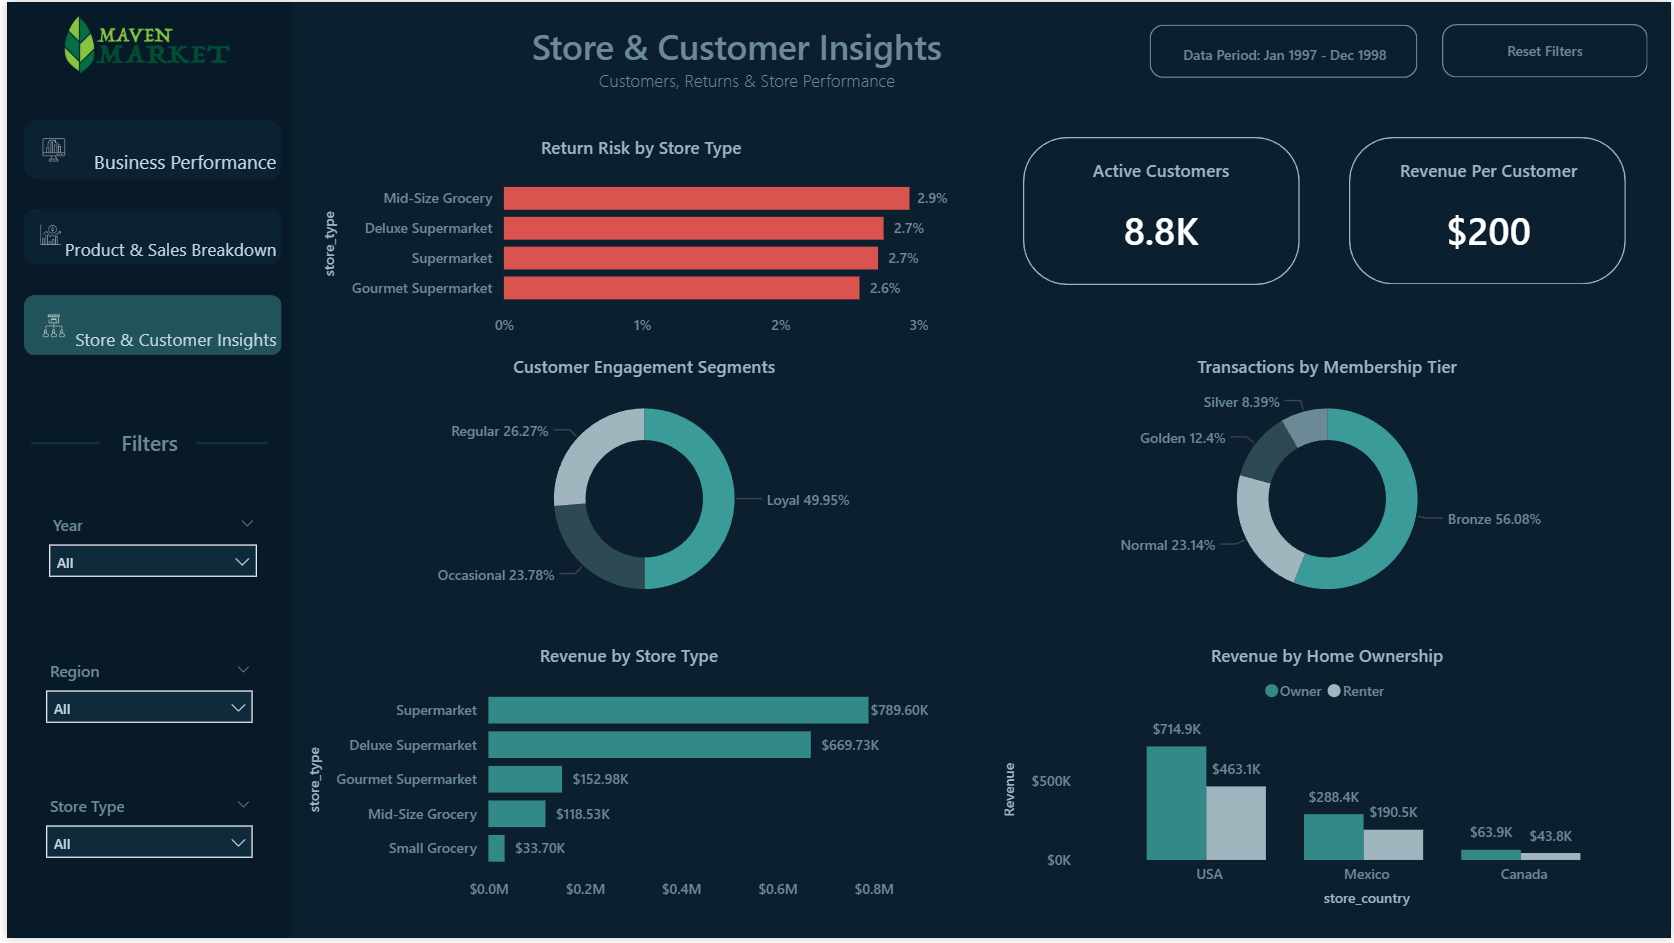

The dashboard page shown, as its layout file describes it:
{"tool":"powerbi","page":{"name":"Store & Customer Insights","canvas":[1280,720],"ordinal":2},"visuals":[{"type":"shape","box":[0,0,219.9,719.8],"z":0},{"type":"group","id":"g1","title":"Group 6","box":[1031.7,104,212.9,113.4],"z":0,"group":"g3"},{"type":"textbox","box":[46.2,322.9,127,39.9],"z":0,"group":"g4"},{"type":"textbox","box":[350.1,15.7,422.7,68.1],"z":1000},{"type":"shape","box":[137.5,326.8,71.3,24.9],"z":1000,"group":"g4"},{"type":"image","box":[17.7,7.9,179.3,50.4],"z":2000},{"type":"shape","box":[10.5,326.8,68.7,24.9],"z":2000,"group":"g4"},{"type":"clusteredBarChart","title":"Return Risk by Store Type","fields":{"Category":["Stores.store_type"],"Y":["Measures Table.Return Rate %"]},"box":[238.9,103.4,497.3,163.6],"z":3000},{"type":"shape","box":[781.3,104,212.9,113.9],"z":3000,"group":"g2"},{"type":"shape","box":[1031.7,104,212.9,113.4],"z":3000,"group":"g1"},{"type":"actionButton","title":"Performance Pulse","box":[13.1,159,198.3,42.5],"z":3000,"group":"g6"},{"type":"group","id":"g2","title":"Group 9","box":[781.3,104,212.9,113.9],"z":4000,"group":"g3"},{"type":"actionButton","title":"Performance Pulse","box":[13.1,225.1,198.3,46.5],"z":4000,"group":"g5"},{"type":"donutChart","title":"Transactions by Membership Tier","fields":{"Category":["Customers.member_card"],"Y":["Measures Table.Total Transactions"]},"box":[762.4,271.6,506.5,204.2],"z":4000},{"type":"group","id":"g3","title":"Group 10","box":[781.3,104,463.3,113.9],"z":5000},{"type":"image","box":[24.5,170.1,18.3,18.3],"z":5000,"group":"g6"},{"type":"image","box":[27.1,239.5,18.3,18.3],"z":5000,"group":"g5"},{"type":"clusteredBarChart","title":"Revenue by Store Type","fields":{"Category":["Stores.store_type"],"Y":["Measures Table.Total Revenue"]},"box":[232.3,494.1,497.3,206.8],"z":6000},{"type":"donutChart","title":"Customer Engagement Segments","fields":{"Category":["Customers.Customer Loyalty"],"Y":["Count(Customers.customer_id)"]},"box":[238.9,271.6,501.9,204.2],"z":7000},{"type":"clusteredColumnChart","title":"Revenue by Home Ownership","fields":{"Category":["Stores.store_country"],"Y":["Measures Table.Total Revenue"],"Series":["Customers.Home Owner Or Renter"]},"box":[762.4,494.1,506.5,206.8],"z":8000},{"type":"actionButton","title":"Performance Pulse","box":[13.1,91,198.3,45.8],"z":9000},{"type":"group","id":"g4","title":"Group 2","box":[10.5,322.9,198.3,39.9],"z":9004,"group":"g7"},{"type":"image","box":[27.1,104.7,18.3,18.3],"z":10000},{"type":"group","id":"g5","title":"Group 3","box":[13.1,225.1,198.3,46.5],"z":11000},{"type":"group","id":"g6","title":"Group 4","box":[13.1,159,198.3,42.5],"z":12000},{"type":"group","id":"g7","title":"Group 1","box":[10.5,322.9,198.3,39.9],"z":13000},{"type":"slicer","fields":{"Values":["Calendar.Year"]},"box":[22.2,389,180,60.2],"z":14000},{"type":"slicer","fields":{"Values":["Regions.sales_region"]},"box":[20.3,501.6,179.3,60.2],"z":15000},{"type":"cardVisual","title":"Active Customers","fields":{"Data":["Measures Table.Active Customers"]},"box":[810.7,121.2,154,83.4],"z":16000,"group":"g2"},{"type":"slicer","fields":{"Values":["Stores.store_type"]},"box":[19.6,605.6,179.3,60.2],"z":16000},{"type":"actionButton","box":[1104,17,158.4,41.2],"z":17000},{"type":"cardVisual","title":"Revenue Per Customer","fields":{"Data":["Measures Table.Avg Revenue per Customer"]},"box":[1067,120.9,144.1,82.4],"z":17000,"group":"g1"},{"type":"cardVisual","fields":{"Data":["Measures Table.Data Period"]},"box":[876.9,15.7,210.7,45.8],"z":18000}]}

Visuals, with their boxes in screenshot pixels (x1, y1, x2, y2), scaled from the page's 1280x720 canvas onto the 1674x943 screenshot:
shape: x1=0, y1=0, x2=288, y2=942
"Group 6" group: x1=1349, y1=136, x2=1628, y2=285
textbox: x1=60, y1=423, x2=227, y2=475
textbox: x1=458, y1=21, x2=1011, y2=110
shape: x1=180, y1=428, x2=273, y2=461
image: x1=23, y1=10, x2=258, y2=76
shape: x1=14, y1=428, x2=104, y2=461
"Return Risk by Store Type" clusteredBarChart: x1=312, y1=135, x2=963, y2=350
shape: x1=1022, y1=136, x2=1300, y2=285
shape: x1=1349, y1=136, x2=1628, y2=285
"Performance Pulse" actionButton: x1=17, y1=208, x2=276, y2=264
"Group 9" group: x1=1022, y1=136, x2=1300, y2=285
"Performance Pulse" actionButton: x1=17, y1=295, x2=276, y2=356
"Transactions by Membership Tier" donutChart: x1=997, y1=356, x2=1659, y2=623
"Group 10" group: x1=1022, y1=136, x2=1628, y2=285
image: x1=32, y1=223, x2=56, y2=247
image: x1=35, y1=314, x2=59, y2=338
"Revenue by Store Type" clusteredBarChart: x1=304, y1=647, x2=954, y2=918
"Customer Engagement Segments" donutChart: x1=312, y1=356, x2=969, y2=623
"Revenue by Home Ownership" clusteredColumnChart: x1=997, y1=647, x2=1659, y2=918
"Performance Pulse" actionButton: x1=17, y1=119, x2=276, y2=179
"Group 2" group: x1=14, y1=423, x2=273, y2=475
image: x1=35, y1=137, x2=59, y2=161
"Group 3" group: x1=17, y1=295, x2=276, y2=356
"Group 4" group: x1=17, y1=208, x2=276, y2=264
"Group 1" group: x1=14, y1=423, x2=273, y2=475
slicer - Calendar.Year: x1=29, y1=509, x2=264, y2=588
slicer - Regions.sales_region: x1=27, y1=657, x2=261, y2=736
"Active Customers" cardVisual: x1=1060, y1=159, x2=1262, y2=268
slicer - Stores.store_type: x1=26, y1=793, x2=260, y2=872
actionButton: x1=1444, y1=22, x2=1651, y2=76
"Revenue Per Customer" cardVisual: x1=1395, y1=158, x2=1584, y2=266
cardVisual - Measures Table.Data Period: x1=1147, y1=21, x2=1422, y2=81
